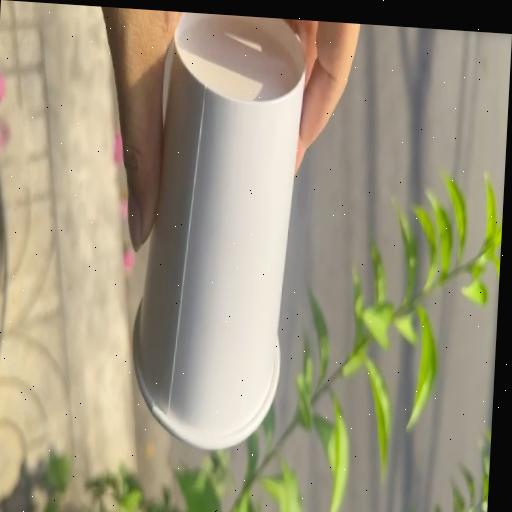Ly_giay: (133, 12, 304, 447)
